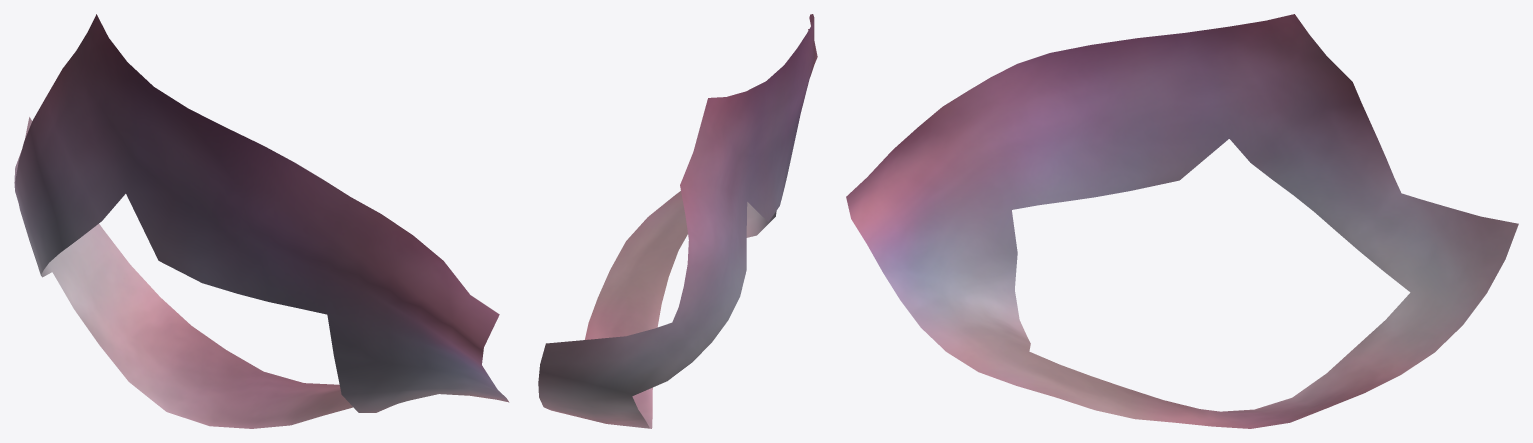
The model's file is gpext.obj.
3 renders of one model, left to right at view 1: azimuth 30°, elevation 25°; view 2: azimuth 150°, elevation 25°; view 3: azimuth 270°, elevation 25°, orthographic. The views are drawn at different scales.
Parts seen in each view (by area): view 1: GP:EXT; view 2: GP:EXT; view 3: GP:EXT.
Boxes of the visible parts, left/top/right/bottom form: GP:EXT: left=14, top=14, right=509, bottom=428; GP:EXT: left=538, top=14, right=817, bottom=428; GP:EXT: left=846, top=14, right=1518, bottom=428.
Bounding box in the file's own units: 186 × 270 × 459.
Materials: 1 (1 with a texture image).
